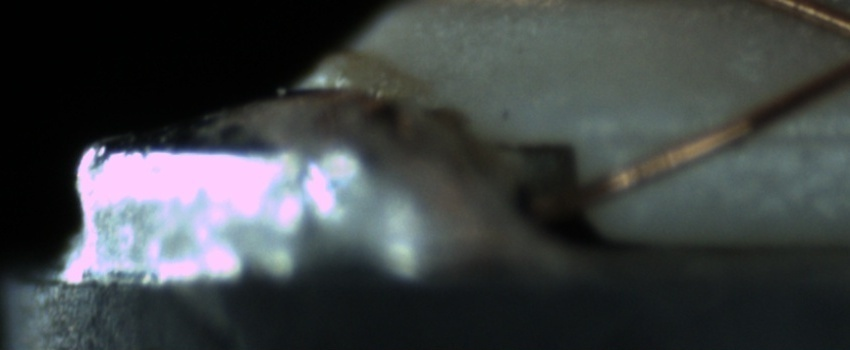DL: (614, 103, 849, 171)
